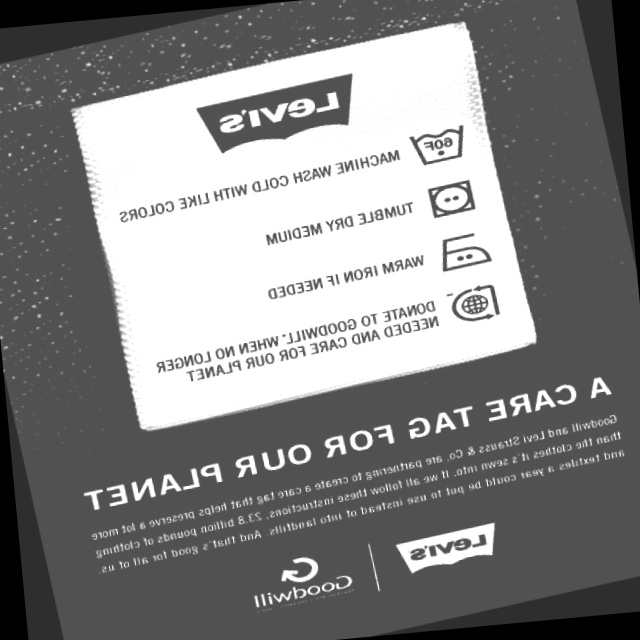30C: (403, 115, 473, 173)
iron_medium: (430, 224, 496, 279)
tumble_dry_medium: (421, 175, 483, 225)
